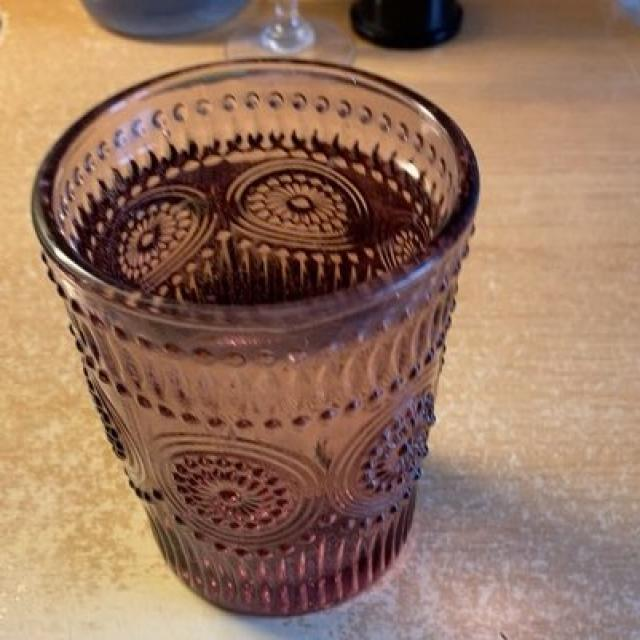water: (52, 89, 468, 591)
